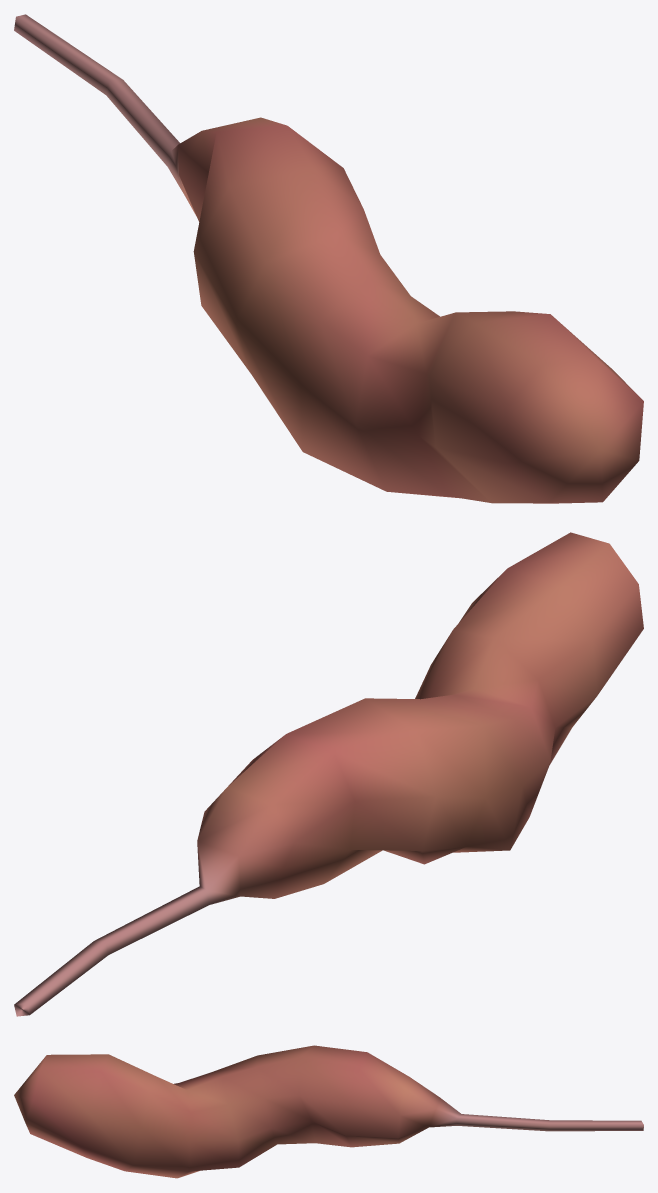
The model's file is microscopic-bacteria-wavy-bacterium_v2.glb.
The picture shows the model from 3 angles, top to bottom: view 1: azimuth 30°, elevation 25°; view 2: azimuth 150°, elevation 25°; view 3: azimuth 270°, elevation 25°; orthographic projection. The views are drawn at different scales.
Visible parts, largest first — view 1: Wavy Bacterium_v2; view 2: Wavy Bacterium_v2; view 3: Wavy Bacterium_v2.
Boxes of the visible parts, x1,y1,x2,y2 form: Wavy Bacterium_v2: (14,14,643,503); Wavy Bacterium_v2: (14,532,643,1016); Wavy Bacterium_v2: (14,1045,643,1178).
Bounding box in the file's own units: 0.0726 × 0.0841 × 0.4.
